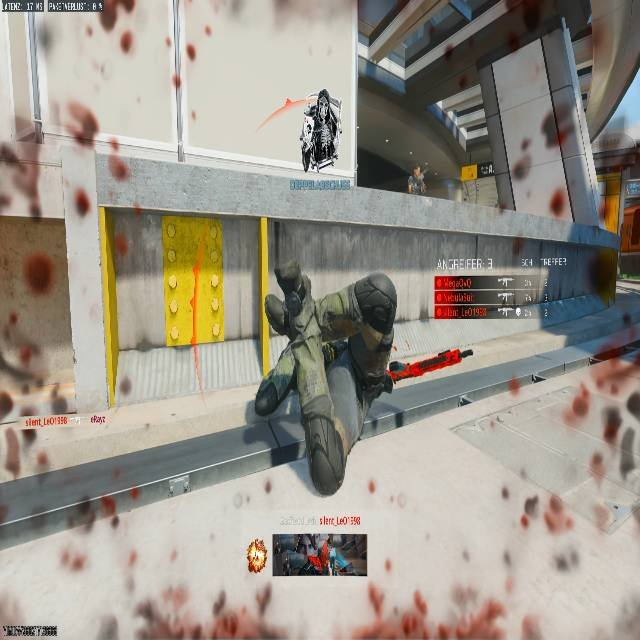head: (349, 274, 396, 340), (58, 98, 100, 147), (275, 261, 311, 315)
player: (253, 259, 401, 496), (407, 165, 426, 194)
